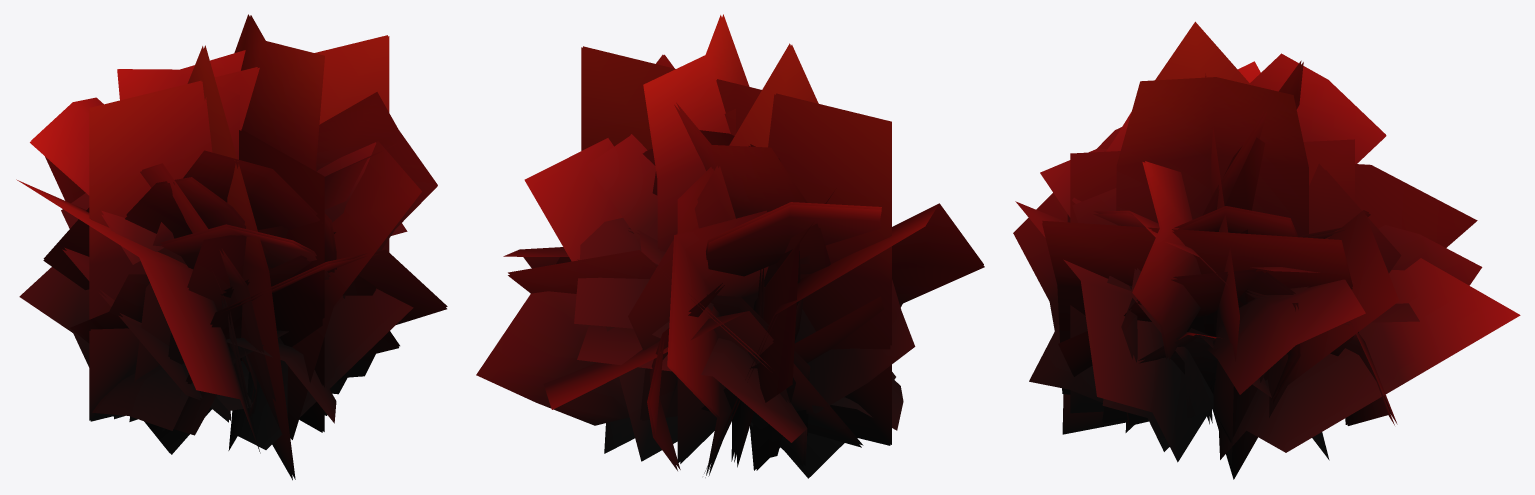
File: Bush02_AFS_high.FBX
3 views of the same model, side by side, from view 1: azimuth 30°, elevation 25°; view 2: azimuth 150°, elevation 25°; view 3: azimuth 270°, elevation 25° (orthographic). The views are drawn at different scales.
Parts seen in each view (by area): view 1: Bush02_AFS_high; view 2: Bush02_AFS_high; view 3: Bush02_AFS_high.
Part boxes in pixels (x1,y1,x2,y2): Bush02_AFS_high: [16, 14, 447, 480]; Bush02_AFS_high: [476, 14, 984, 478]; Bush02_AFS_high: [1013, 21, 1520, 479].
Size of the model in its own units: 0.6463 by 0.654 by 0.7244.
